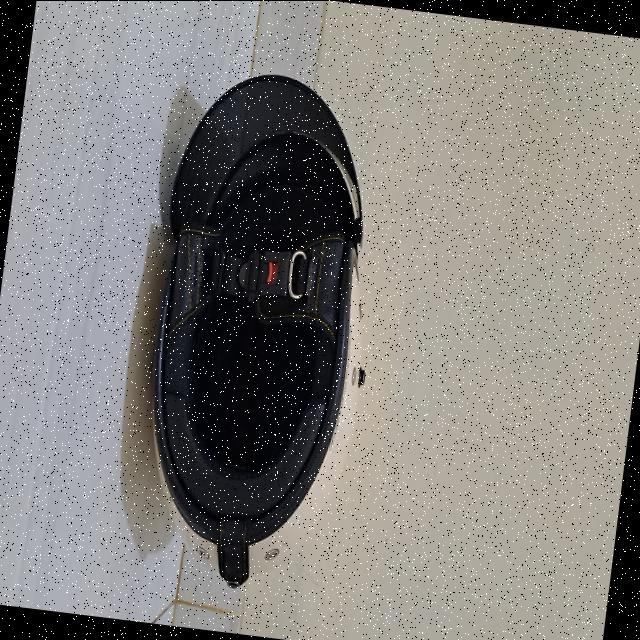Helm: (114, 39, 412, 610)
